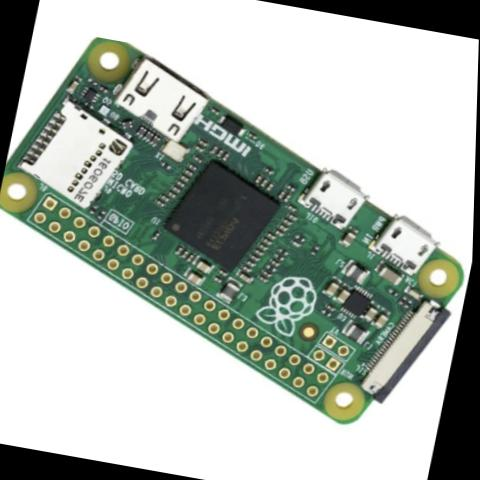Raspberry-Pi-Zero: (0, 25, 479, 441)
